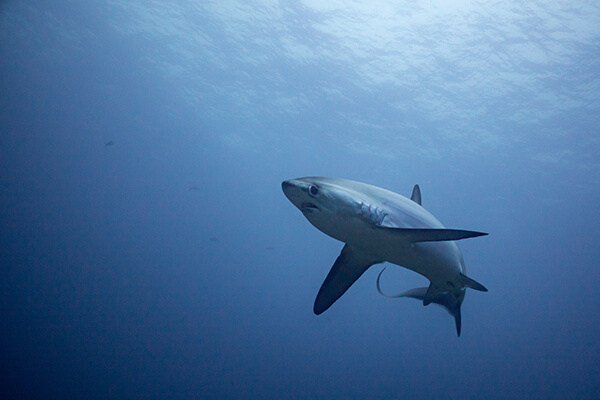shark: (266, 169, 498, 329)
